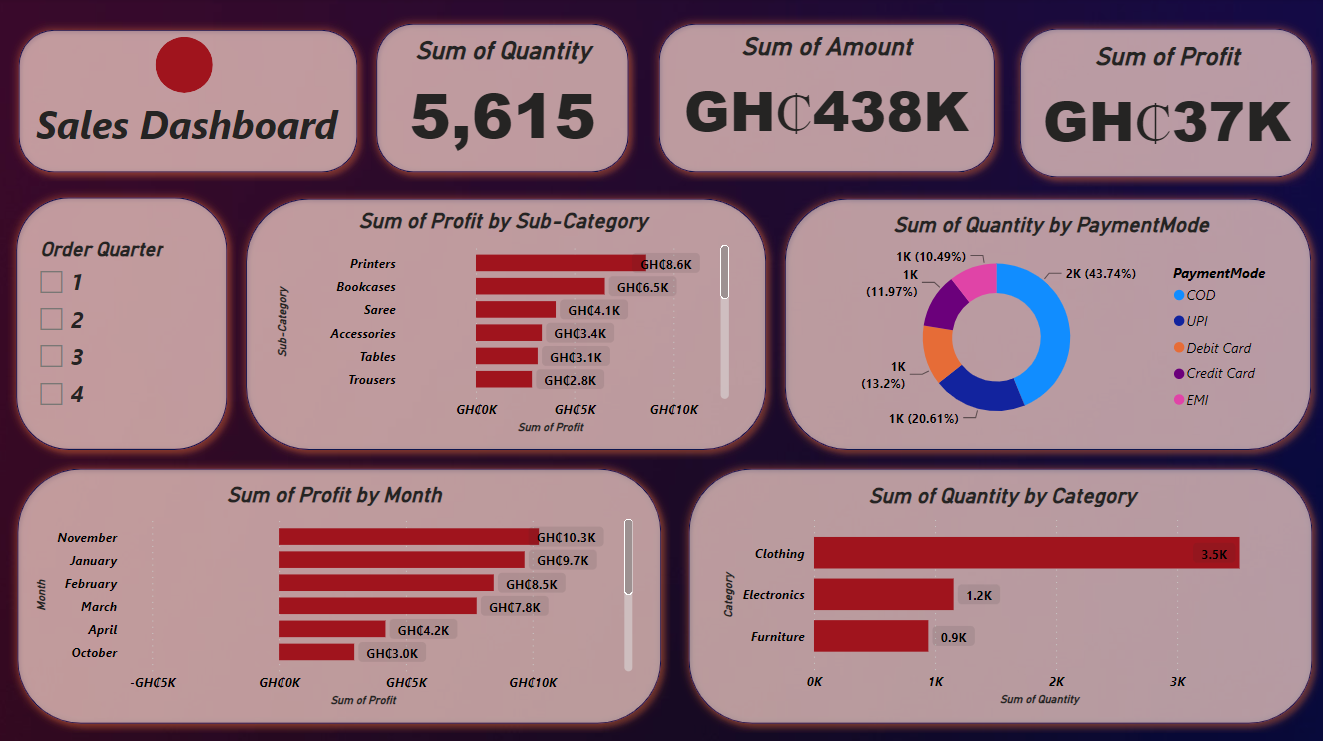

The page's visual inventory and layout, read from the dashboard file:
{"tool":"powerbi","page":{"name":"Page 1","canvas":[1280,720],"ordinal":0},"visuals":[{"type":"shape","box":[10.9,21.7,344.9,155.6],"z":0},{"type":"textbox","box":[31.4,91.7,324.4,62.7],"z":1000},{"type":"shape","box":[8.4,182.8,221.9,261.7],"z":2000},{"type":"slicer","fields":{"Values":["Orders.Order Quarter"]},"box":[27.7,226.3,183.3,177.3],"z":3000},{"type":"shape","box":[355.8,15.7,261.7,161.6],"z":4000},{"type":"card","title":"Sum of Quantity","fields":{"Values":["Sum(Details.Quantity)"]},"box":[376.3,36.2,221.9,119.4],"z":5000},{"type":"shape","box":[977.1,20.3,300.3,161.6],"z":6000},{"type":"card","title":"Sum of Profit","fields":{"Values":["Sum(Details.Profit)"]},"box":[1001.2,42,254.5,119.4],"z":7000},{"type":"shape","box":[628.1,15.4,342.5,161.6],"z":8000},{"type":"card","title":"Sum of Amount","fields":{"Values":["Sum(Details.Amount)"]},"box":[648.6,32.3,301.5,119.4],"z":9000},{"type":"shape","box":[152,37.4,55.5,54.3],"z":9001},{"type":"shape","box":[230.4,184.5,519.8,260.5],"z":9002},{"type":"clusteredBarChart","fields":{"Y":["Sum(Details.Profit)"],"Category":["Details.Sub-Category"]},"box":[264.1,202.6,446.2,223.1],"z":9003},{"type":"shape","box":[750.2,184.5,525.8,260.5],"z":9004},{"type":"donutChart","fields":{"Y":["Sum(Details.Quantity)"],"Category":["Details.PaymentMode"]},"box":[788.7,206.2,454.7,219.5],"z":9005},{"type":"shape","box":[9.6,445,639.2,264.1],"z":9006},{"type":"clusteredBarChart","fields":{"Y":["Sum(Details.Profit)"],"Category":["Orders.Month"]},"box":[31.4,466.7,586.1,221.9],"z":9007},{"type":"shape","box":[657.3,445,619.9,264.1],"z":9008},{"type":"clusteredBarChart","fields":{"Y":["Sum(Details.Quantity)"],"Category":["Details.Category"]},"box":[694.7,467.9,548.7,219.5],"z":9009}]}

Visuals, with their boxes in screenshot pixels (x1, y1, x2, y2), scaled from the page's 1280x720 canvas onto the 1323x741 screenshot:
shape: rect(11, 22, 368, 182)
textbox: rect(32, 94, 368, 159)
shape: rect(9, 188, 238, 457)
slicer - Orders.Order Quarter: rect(29, 233, 218, 415)
shape: rect(368, 16, 638, 182)
"Sum of Quantity" card: rect(389, 37, 618, 160)
shape: rect(1010, 21, 1320, 187)
"Sum of Profit" card: rect(1035, 43, 1298, 166)
shape: rect(649, 16, 1003, 182)
"Sum of Amount" card: rect(670, 33, 982, 156)
shape: rect(157, 38, 214, 94)
shape: rect(238, 190, 775, 458)
clusteredBarChart - Sum(Details.Profit) x Details.Sub-Category: rect(273, 209, 734, 438)
shape: rect(775, 190, 1319, 458)
donutChart - Sum(Details.Quantity) x Details.PaymentMode: rect(815, 212, 1285, 438)
shape: rect(10, 458, 671, 730)
clusteredBarChart - Sum(Details.Profit) x Orders.Month: rect(32, 480, 638, 709)
shape: rect(679, 458, 1320, 730)
clusteredBarChart - Sum(Details.Quantity) x Details.Category: rect(718, 482, 1285, 707)
